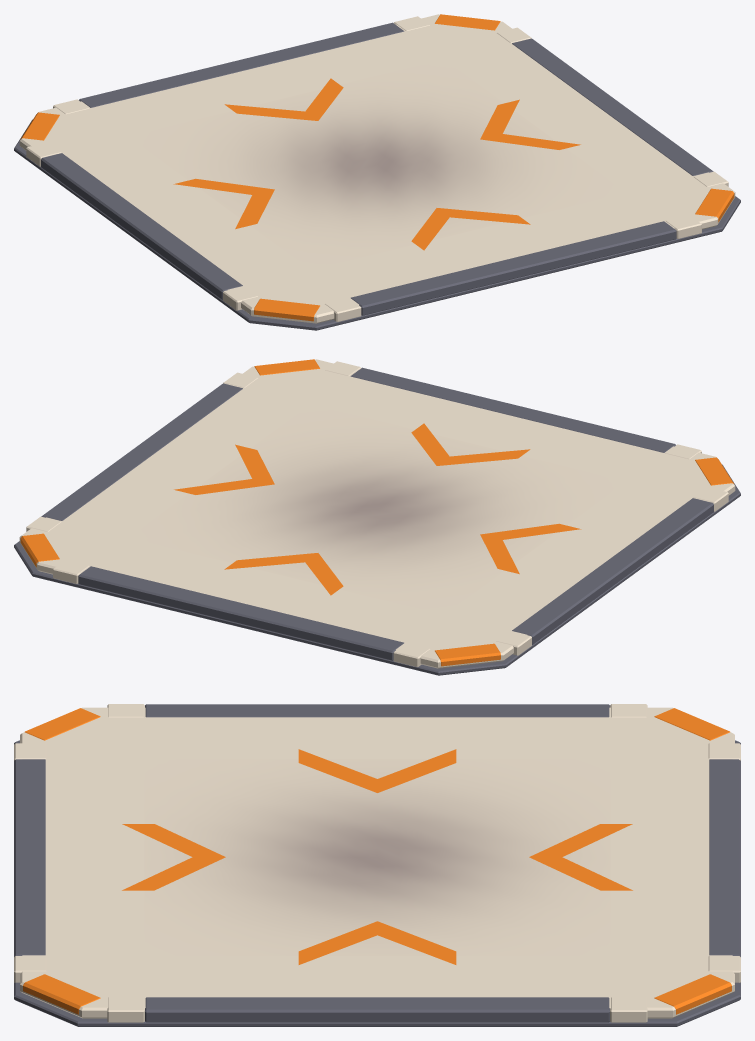
The model's file is asset.glb.
3 renders of one model, top to bottom at view 1: azimuth 30°, elevation 25°; view 2: azimuth 150°, elevation 25°; view 3: azimuth 270°, elevation 25°, orthographic. The views are drawn at different scales.
Parts seen in each view (by area): view 1: Ivory octagonal deck, Scorched deck center, Slate edge protector (×4), Orange inward chevron (×4), Chamfered slate foundation, Safety corner cap (×4), Rim sector 3_smooth-structure, Rim sector 2_smooth-structure, Rim sector 0_smooth-structure, Rim sector 1_smooth-structure; view 2: Ivory octagonal deck, Scorched deck center, Slate edge protector (×4), Orange inward chevron (×4), Chamfered slate foundation, Safety corner cap (×4), Rim sector 1_smooth-structure, Rim sector 2_smooth-structure, Rim sector 0_smooth-structure, Rim sector 3_smooth-structure; view 3: Ivory octagonal deck, Scorched deck center, Slate edge protector (×4), Orange inward chevron (×4), Safety corner cap (×4), Chamfered slate foundation, Rim sector 0_smooth-structure, Rim sector 1_smooth-structure, Rim sector 3_smooth-structure, Rim sector 2_smooth-structure.
Boxes of the visible parts, x1,y1,x2,y2 form: Ivory octagonal deck: [19, 14, 735, 323]; Scorched deck center: [128, 59, 626, 269]; Slate edge protector (×4): [41, 22, 713, 315]; Orange inward chevron (×4): [173, 78, 580, 250]; Chamfered slate foundation: [14, 119, 740, 330]; Safety corner cap (×4): [21, 14, 734, 321]; Rim sector 3_smooth-structure: [325, 215, 701, 321]; Rim sector 2_smooth-structure: [26, 142, 257, 310]; Rim sector 0_smooth-structure: [497, 27, 728, 186]; Rim sector 1_smooth-structure: [53, 16, 429, 114]; Ivory octagonal deck: [19, 359, 735, 668]; Scorched deck center: [128, 404, 626, 614]; Slate edge protector (×4): [41, 367, 713, 660]; Orange inward chevron (×4): [174, 423, 581, 595]; Chamfered slate foundation: [14, 464, 740, 675]; Safety corner cap (×4): [20, 359, 733, 666]; Rim sector 1_smooth-structure: [53, 560, 429, 666]; Rim sector 2_smooth-structure: [497, 487, 728, 655]; Rim sector 0_smooth-structure: [26, 372, 257, 531]; Rim sector 3_smooth-structure: [325, 361, 701, 459]; Ivory octagonal deck: [20, 707, 734, 1018]; Scorched deck center: [144, 759, 610, 955]; Slate edge protector (×4): [14, 704, 740, 1022]; Orange inward chevron (×4): [122, 749, 632, 964]; Safety corner cap (×4): [23, 708, 731, 1014]; Chamfered slate foundation: [14, 740, 740, 1026]; Rim sector 0_smooth-structure: [107, 997, 647, 1022]; Rim sector 1_smooth-structure: [708, 743, 740, 982]; Rim sector 3_smooth-structure: [14, 743, 46, 982]; Rim sector 2_smooth-structure: [107, 704, 647, 717].
Bounding box in the file's own units: 12 × 0.31 × 12.
